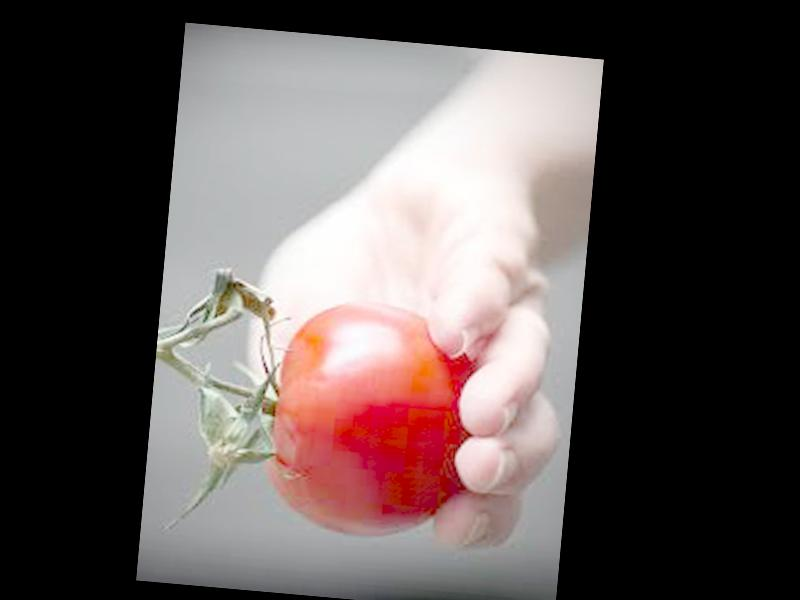Tomato: (256, 296, 480, 545)
